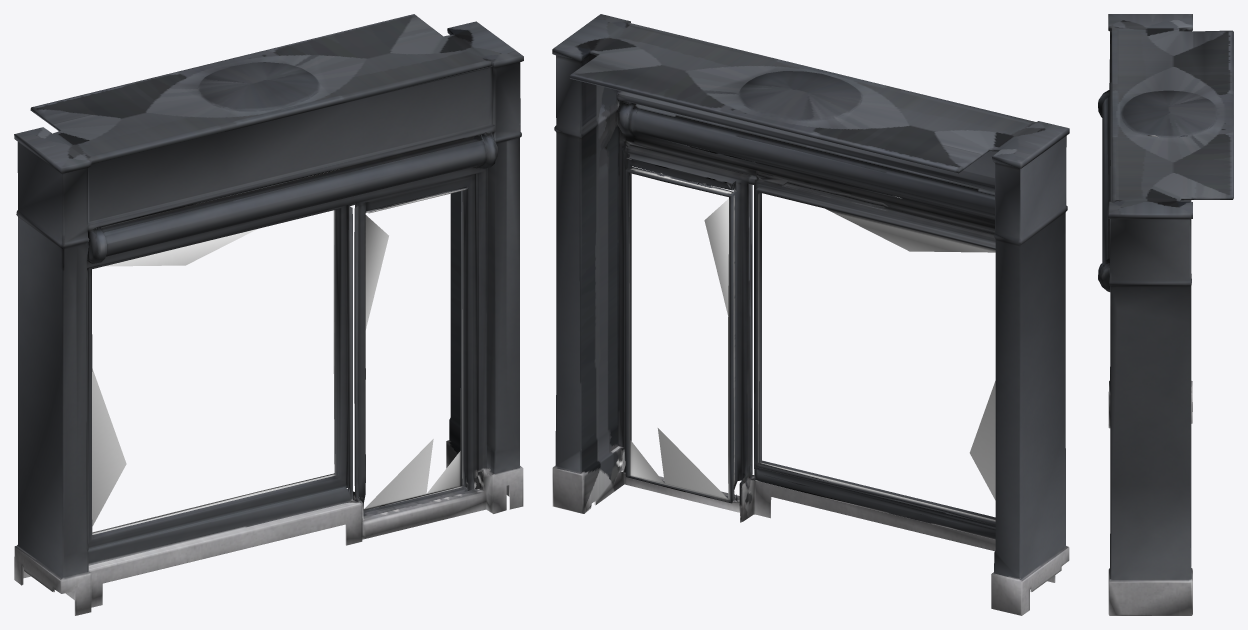
The model's file is shopfront.glb.
The picture shows the model from 3 angles, left to right: view 1: azimuth 30°, elevation 25°; view 2: azimuth 150°, elevation 25°; view 3: azimuth 270°, elevation 25°; orthographic projection. The views are drawn at different scales.
Parts seen in each view (by area): view 1: low; view 2: low; view 3: low.
Part boxes in pixels (bbox=[...]): low: bbox=[14, 14, 523, 615]; low: bbox=[552, 14, 1069, 615]; low: bbox=[1098, 14, 1233, 615].
Size of the model in its own units: 1.87 by 1.77 by 0.5356.
1 material, 1 textured.
